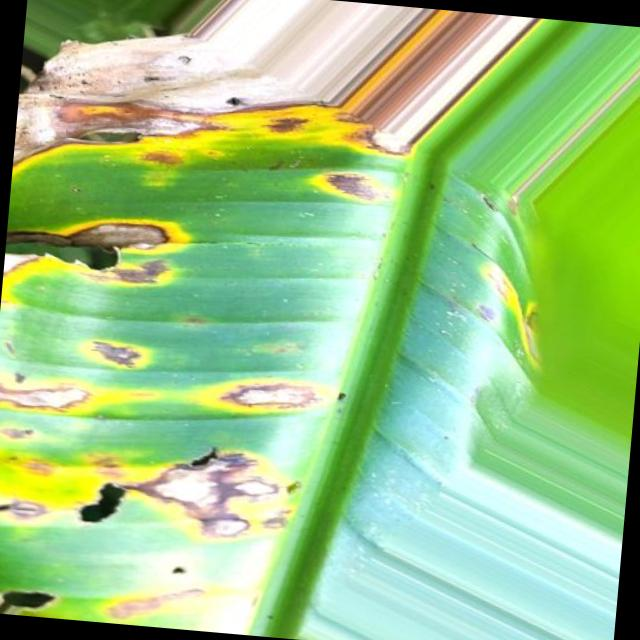Banana_Black_Sigatoka: (0, 200, 340, 640), (12, 14, 439, 240)
